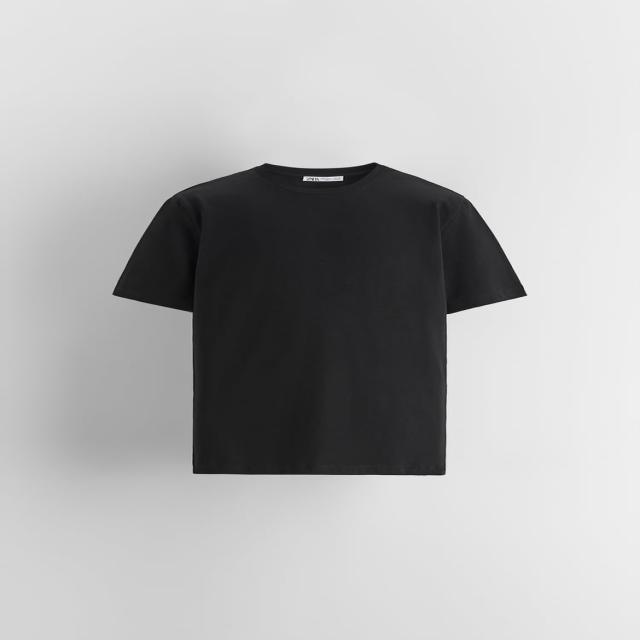shirt: (113, 164, 526, 473)
